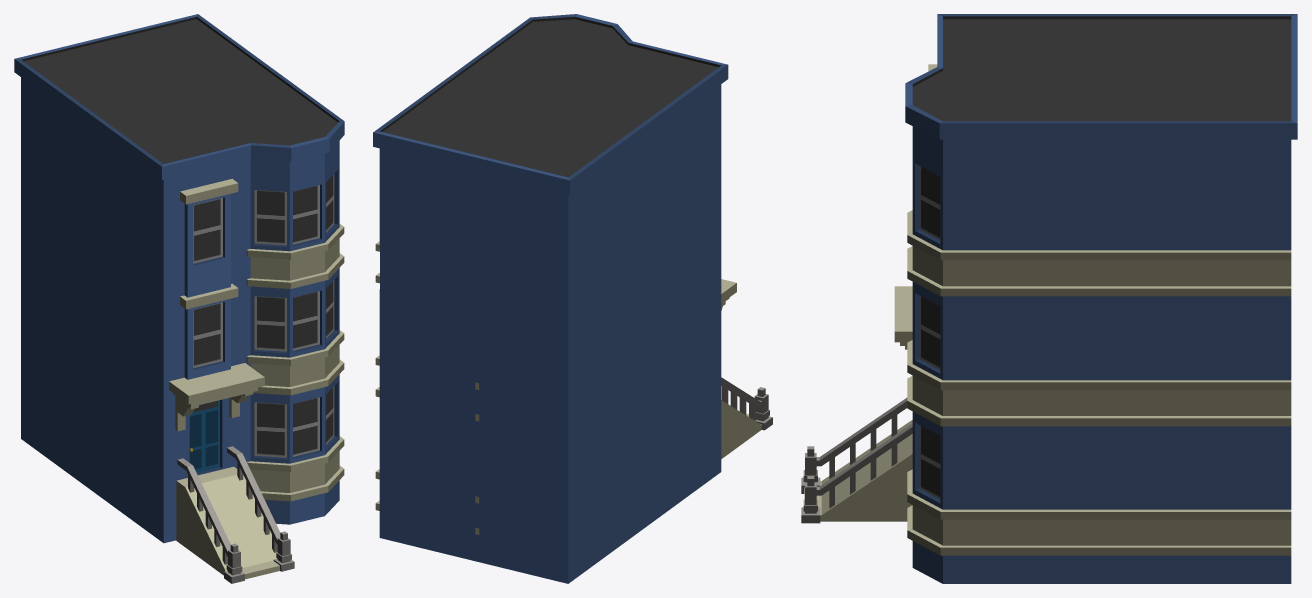
Rendered from SA_Bld_TownHouse_Clean_02.gltf.
3 renders of one model, left to right at view 1: azimuth 30°, elevation 25°; view 2: azimuth 150°, elevation 25°; view 3: azimuth 270°, elevation 25°, orthographic. The views are drawn at different scales.
Visible parts, largest first — view 1: SA_Bld_TownHouse_Clean_02; view 2: SA_Bld_TownHouse_Clean_02; view 3: SA_Bld_TownHouse_Clean_02.
Part boxes in pixels (<box>): SA_Bld_TownHouse_Clean_02: <box>14,14,344,583</box>; SA_Bld_TownHouse_Clean_02: <box>373,14,772,583</box>; SA_Bld_TownHouse_Clean_02: <box>801,14,1297,583</box>.
Bounding box in the file's own units: 11.88 × 23.46 × 22.76.
Materials: 1 (1 with a texture image).
